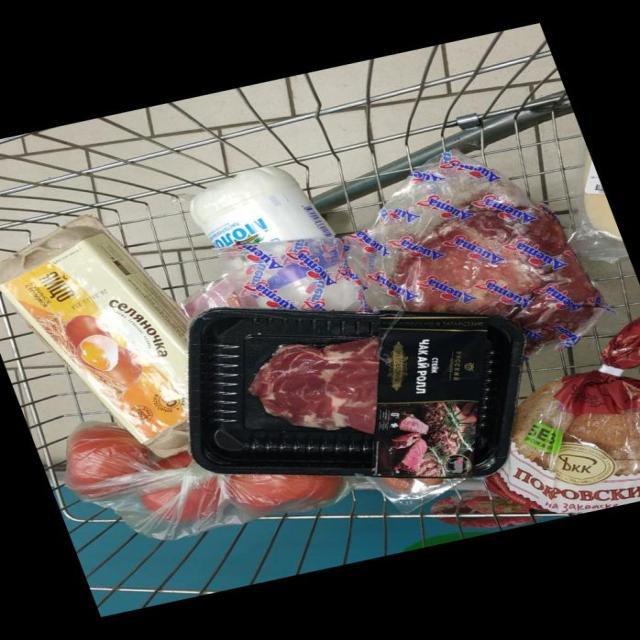Bread: (486, 317, 640, 515)
Eggs: (0, 216, 188, 454)
Meat: (186, 152, 604, 353), (187, 307, 523, 482)
Milk: (189, 167, 332, 249)
Tomatoes: (63, 421, 157, 500), (224, 474, 341, 516), (138, 478, 219, 521), (155, 452, 191, 471)
